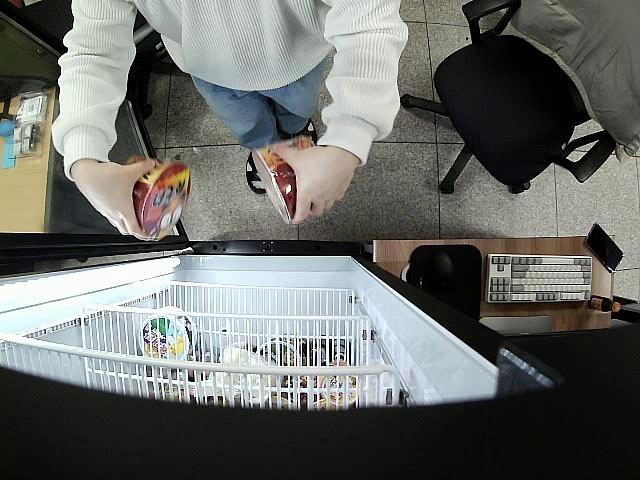05_nuguri_L: (250, 132, 317, 226), (121, 154, 193, 238)
